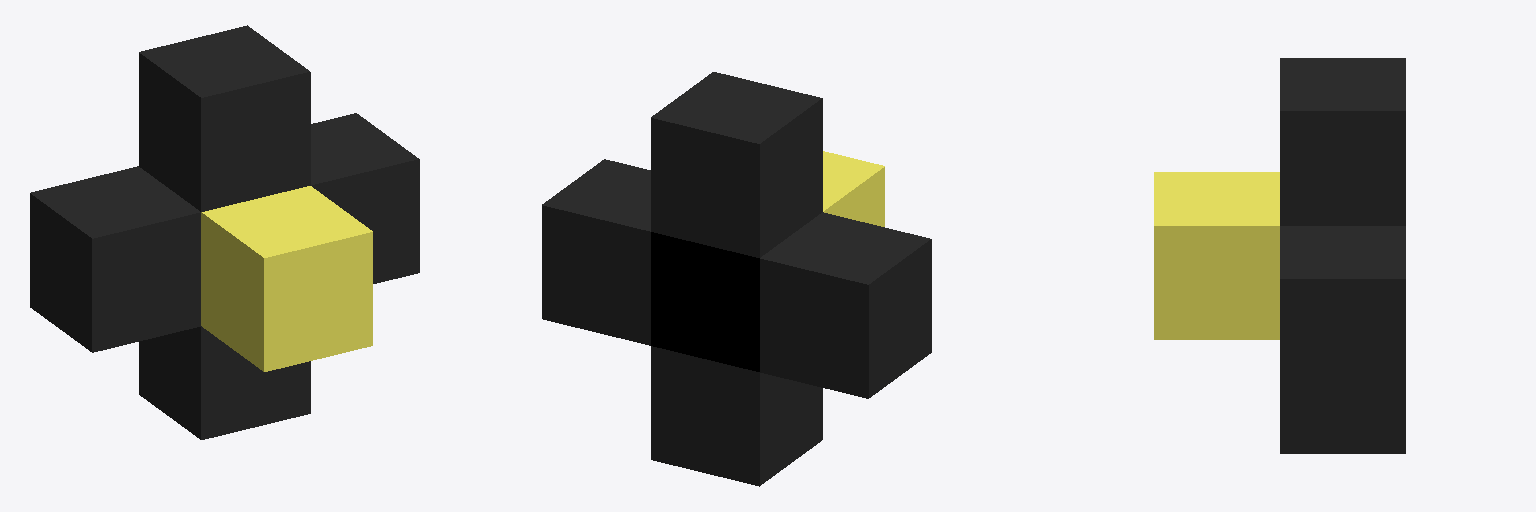
3 renders of one model, left to right at view 1: azimuth 30°, elevation 25°; view 2: azimuth 150°, elevation 25°; view 3: azimuth 270°, elevation 25°, orthographic.
Bounding box in the file's own units: 12 × 12 × 8.
1 materials, 1 textured.